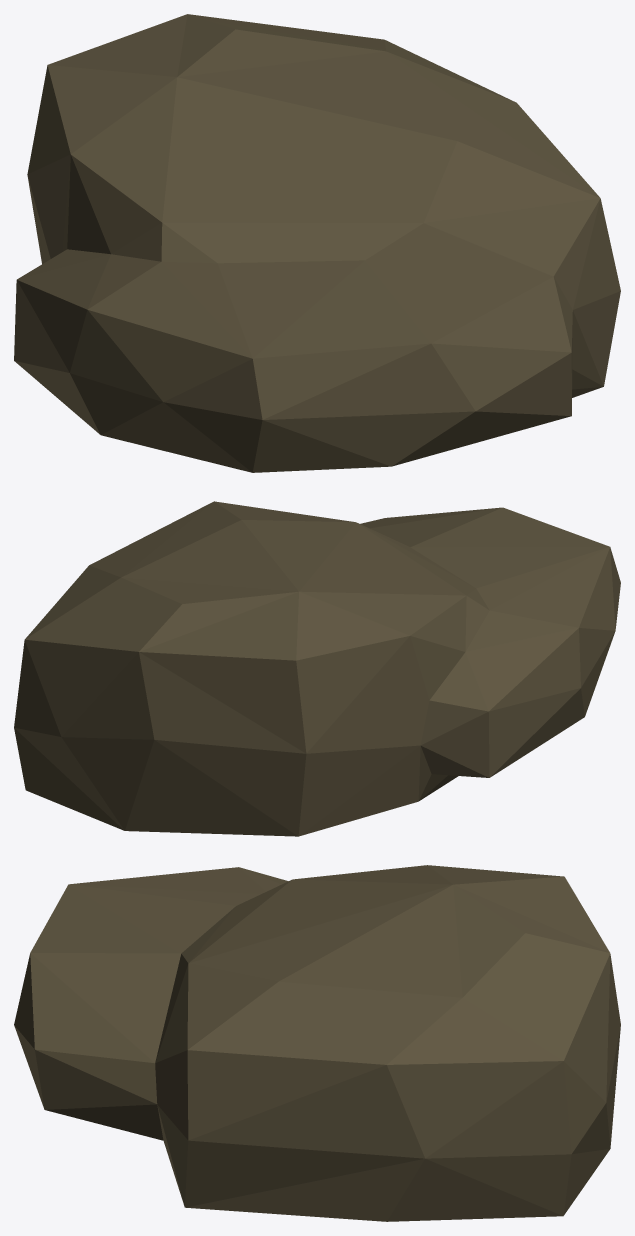
Rendered from rock__rock6.glb.
3 views of the same model, one above another, from view 1: azimuth 30°, elevation 25°; view 2: azimuth 150°, elevation 25°; view 3: azimuth 270°, elevation 25° (orthographic). The views are drawn at different scales.
Parts seen in each view (by area): view 1: rock6.cave.medium; view 2: rock6.cave.medium; view 3: rock6.cave.medium.
Boxes of the visible parts, x1,y1,x2,y2 form: rock6.cave.medium: (14,14,620,472); rock6.cave.medium: (14,501,620,836); rock6.cave.medium: (14,865,620,1221).
Size of the model in its own units: 2.7 by 1.34 by 3.14.
1 material, 1 textured.
